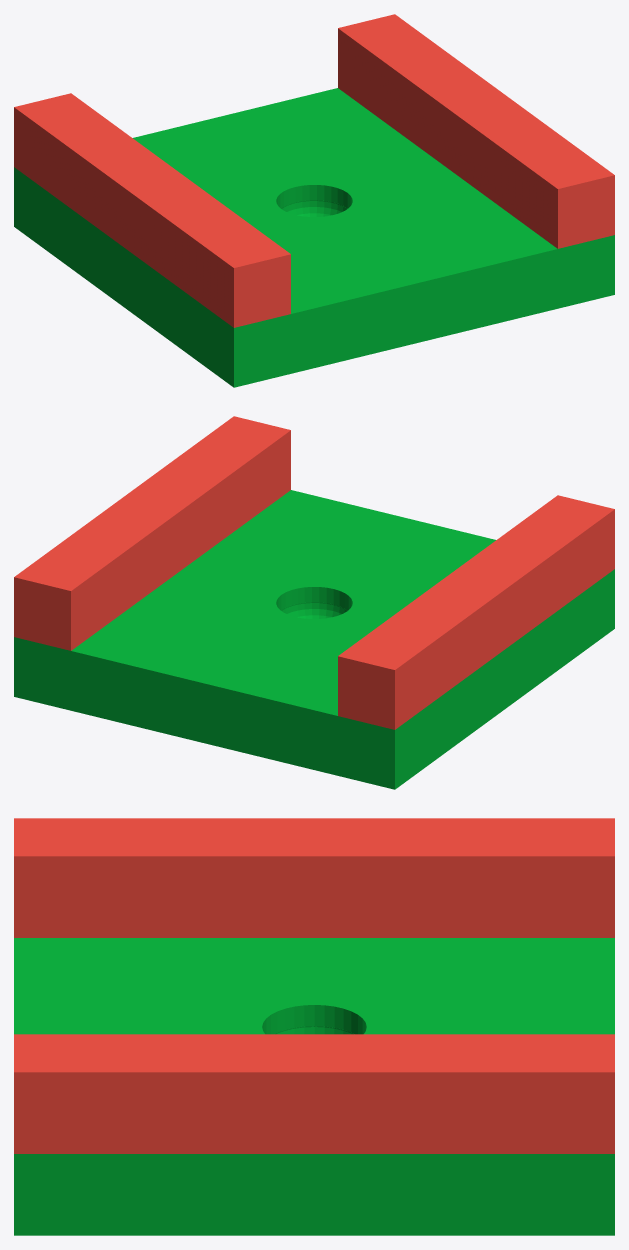
File: hole_double.fbx
3 views of the same model, one above another, from view 1: azimuth 30°, elevation 25°; view 2: azimuth 150°, elevation 25°; view 3: azimuth 270°, elevation 25° (orthographic). The views are drawn at different scales.
Visible parts, largest first — view 1: Green, Cube, Cube.002; view 2: Green, Cube, Cube.002; view 3: Green, Cube, Cube.002.
Boxes of the visible parts, x1,y1,x2,y2 form: Green: (14, 88, 614, 387); Cube: (14, 93, 290, 327); Cube.002: (338, 14, 614, 248); Green: (14, 490, 614, 789); Cube: (338, 495, 614, 729); Cube.002: (14, 416, 290, 650); Green: (14, 938, 614, 1235); Cube: (14, 818, 614, 937); Cube.002: (14, 1034, 614, 1153).
Size of the model in its own units: 200 by 60 by 200.
